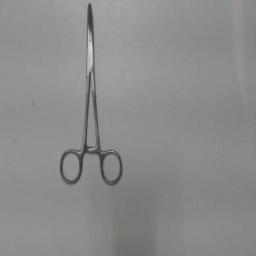Crile Artery Forceps: (57, 1, 127, 189)
